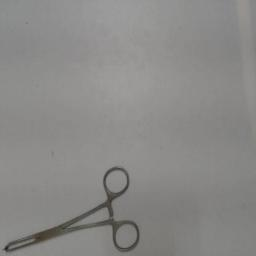Allis Tissue Forceps: (2, 161, 144, 255)
